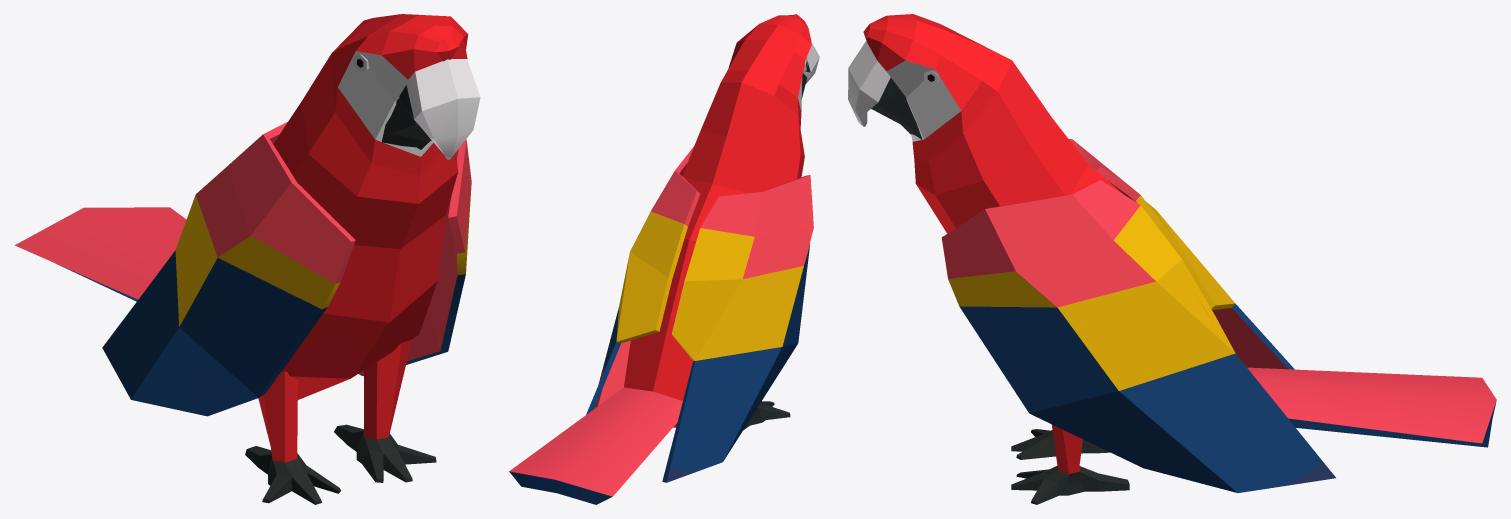
Rendered from papagaio.glb.
3 renders of one model, left to right at view 1: azimuth 30°, elevation 25°; view 2: azimuth 150°, elevation 25°; view 3: azimuth 270°, elevation 25°, orthographic. The views are drawn at different scales.
Visible parts, largest first — view 1: Geo_Parrot; view 2: Geo_Parrot; view 3: Geo_Parrot.
Part boxes in pixels (<box>): Geo_Parrot: <box>14,14,480,504</box>; Geo_Parrot: <box>509,14,819,504</box>; Geo_Parrot: <box>848,14,1496,504</box>.
Size of the model in its own units: 54.42 by 110 by 144.
Materials: 1 (1 with a texture image).
